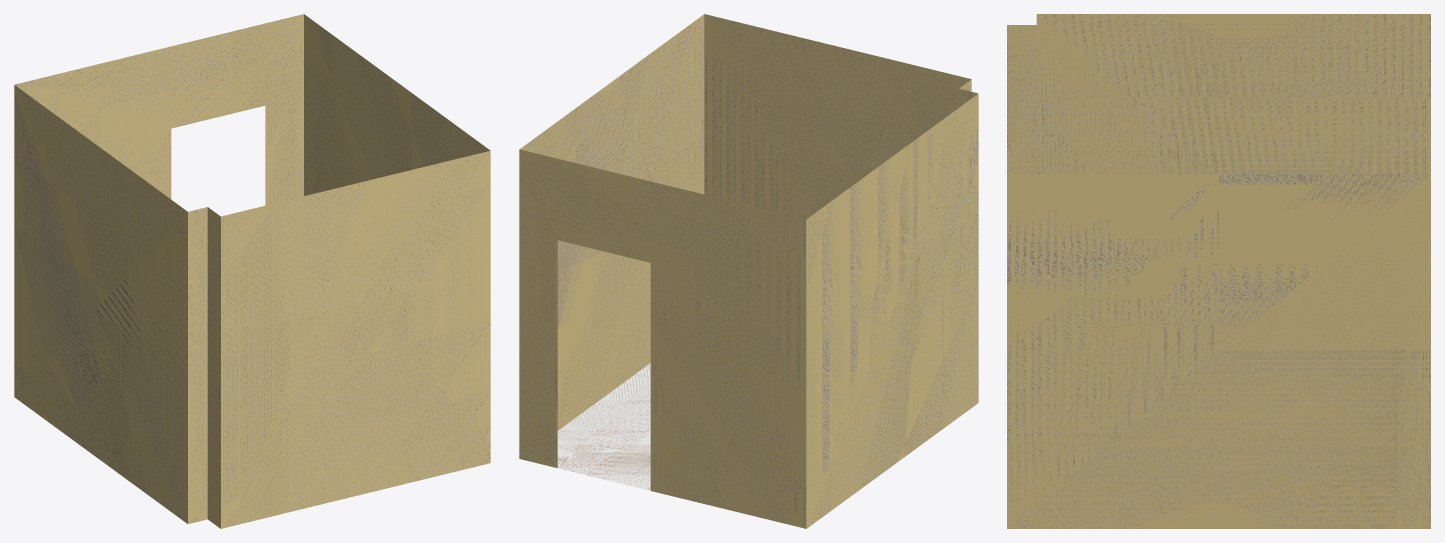
Rendered from CUA023.obj.
The picture shows the model from 3 angles, left to right: view 1: azimuth 30°, elevation 25°; view 2: azimuth 150°, elevation 25°; view 3: azimuth 270°, elevation 25°; orthographic projection. The views are drawn at different scales.
Visible parts, largest first — view 1: Mesh1 CUA023 Model; view 2: Mesh1 CUA023 Model; view 3: Mesh1 CUA023 Model.
Boxes of the visible parts, x1=… form: Mesh1 CUA023 Model: x1=14, y1=14, x2=490, y2=528; Mesh1 CUA023 Model: x1=519, y1=14, x2=978, y2=528; Mesh1 CUA023 Model: x1=1007, y1=14, x2=1430, y2=528.
Size of the model in its own units: 2.89 by 2.98 by 3.22.
Materials: 4 (2 with a texture image).
